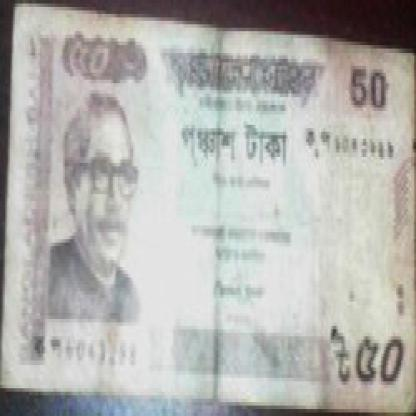Fifty taka: (65, 35, 133, 104), (348, 319, 408, 395)
